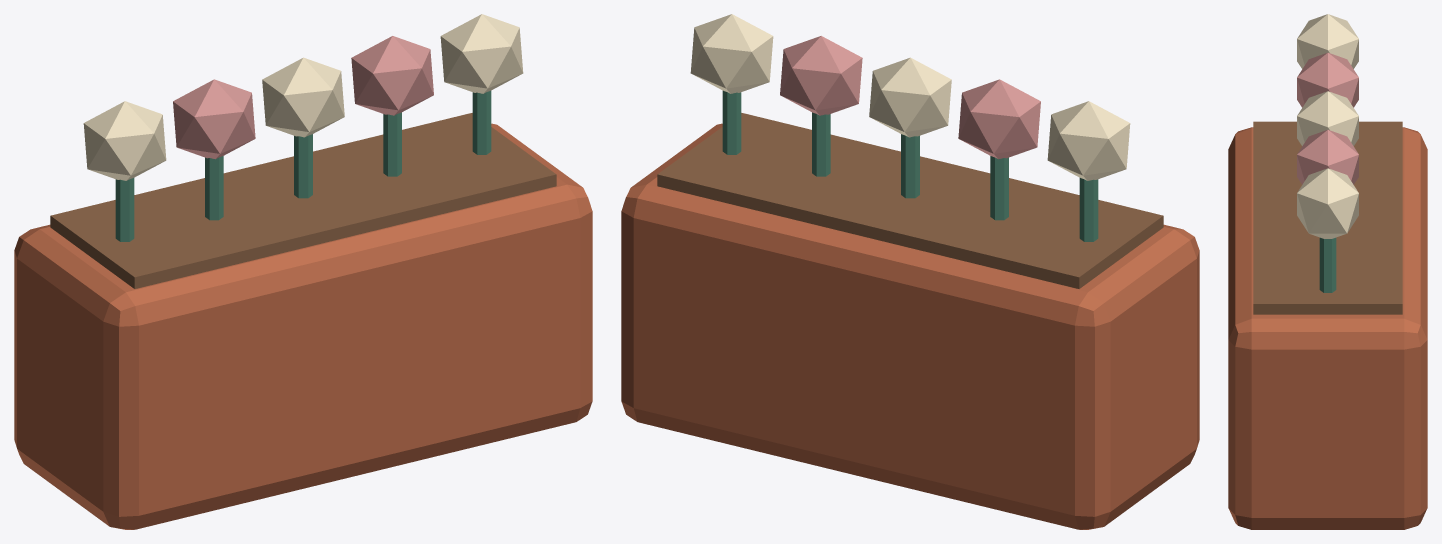
The model's file is tpe5_flower_planter.glb.
The picture shows the model from 3 angles, left to right: view 1: azimuth 30°, elevation 25°; view 2: azimuth 150°, elevation 25°; view 3: azimuth 270°, elevation 25°; orthographic projection. The views are drawn at different scales.
Parts seen in each view (by area): view 1: tpe5_flower_planter__tpe5-street-cinnabar, tpe5_flower_planter__tpe5-street-walnut, tpe5_flower_planter__tpe5-street-ivory, tpe5_flower_planter__tpe5-flower-rose, tpe5_flower_planter__tpe5-street-jade; view 2: tpe5_flower_planter__tpe5-street-cinnabar, tpe5_flower_planter__tpe5-street-walnut, tpe5_flower_planter__tpe5-street-ivory, tpe5_flower_planter__tpe5-flower-rose, tpe5_flower_planter__tpe5-street-jade; view 3: tpe5_flower_planter__tpe5-street-cinnabar, tpe5_flower_planter__tpe5-street-walnut, tpe5_flower_planter__tpe5-street-ivory, tpe5_flower_planter__tpe5-flower-rose, tpe5_flower_planter__tpe5-street-jade.
Part boxes in pixels (x1,y1,x2,y2): tpe5_flower_planter__tpe5-street-cinnabar: (14, 123, 592, 529); tpe5_flower_planter__tpe5-street-walnut: (50, 113, 556, 288); tpe5_flower_planter__tpe5-street-ivory: (83, 14, 523, 180); tpe5_flower_planter__tpe5-flower-rose: (173, 36, 433, 159); tpe5_flower_planter__tpe5-street-jade: (115, 90, 491, 241); tpe5_flower_planter__tpe5-street-cinnabar: (621, 123, 1199, 529); tpe5_flower_planter__tpe5-street-walnut: (657, 113, 1163, 288); tpe5_flower_planter__tpe5-street-ivory: (690, 14, 1130, 180); tpe5_flower_planter__tpe5-flower-rose: (780, 36, 1040, 159); tpe5_flower_planter__tpe5-street-jade: (722, 90, 1098, 241); tpe5_flower_planter__tpe5-street-cinnabar: (1228, 127, 1427, 529); tpe5_flower_planter__tpe5-street-walnut: (1253, 121, 1402, 314); tpe5_flower_planter__tpe5-street-ivory: (1297, 14, 1358, 238); tpe5_flower_planter__tpe5-flower-rose: (1297, 52, 1358, 184); tpe5_flower_planter__tpe5-street-jade: (1319, 237, 1336, 292).
Size of the model in its own units: 1.5 by 1.14 by 0.6.
